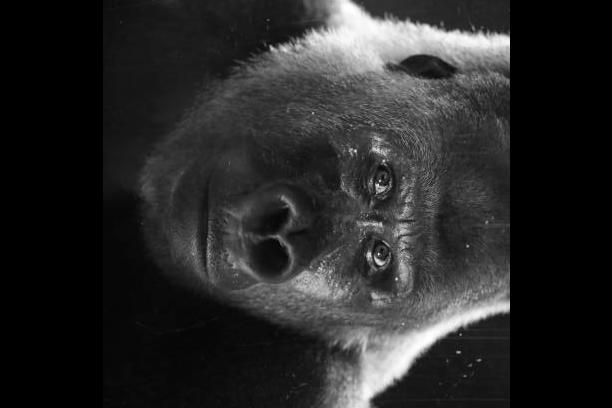gorille_Autres: (106, 0, 509, 408)
